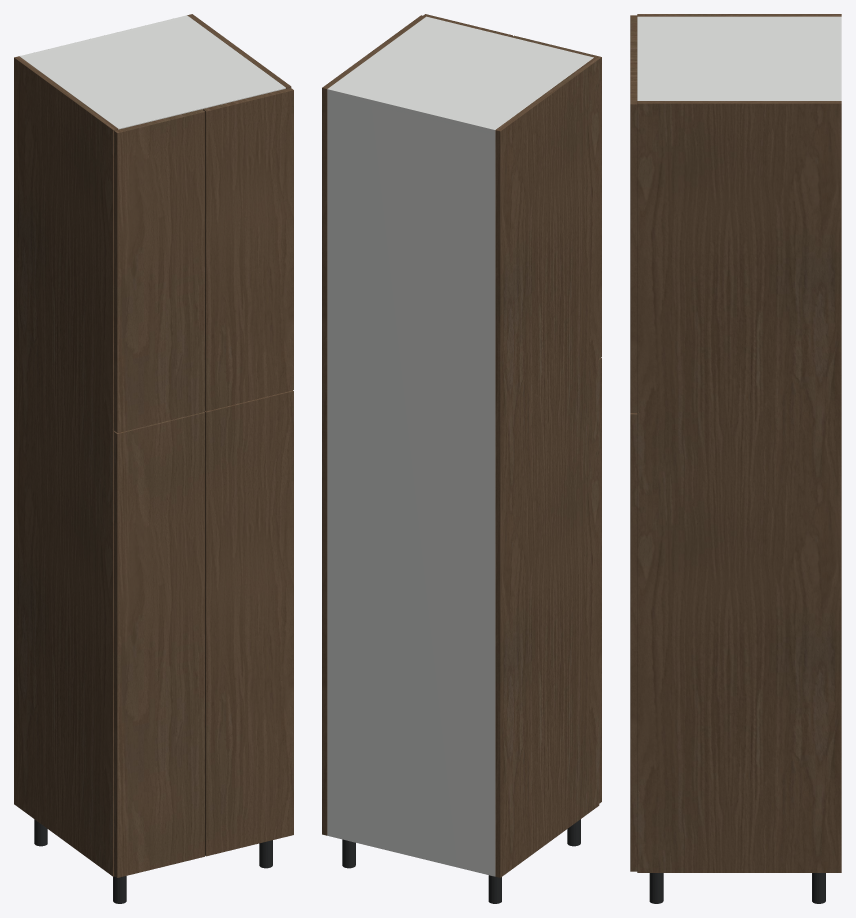
File: oppein-pb-mso-pc2496.glb
3 views of the same model, side by side, from view 1: azimuth 30°, elevation 25°; view 2: azimuth 150°, elevation 25°; view 3: azimuth 270°, elevation 25° (orthographic). The views are drawn at different scales.
Parts seen in each view (by area): view 1: Cabinet side, Door, Door.001, Door.002, Door.003, Cabinet top, Cabinet side.001; view 2: Cabinet back, Cabinet side, Cabinet top, Cabinet side.001, Door, Door.002; view 3: Cabinet side.001, Cabinet top, Door.001, Door.003, Cabinet side, Adjustable foot.003.
Part boxes in pixels (x1=…): Cabinet side: x1=14, y1=56, x2=118, y2=876; Door: x1=114, y1=412, x2=204, y2=877; Door.001: x1=204, y1=390, x2=293, y2=856; Door.002: x1=114, y1=109, x2=204, y2=432; Door.003: x1=202, y1=87, x2=293, y2=411; Cabinet top: x1=21, y1=16, x2=285, y2=129; Cabinet side.001: x1=187, y1=14, x2=291, y2=88; Cabinet back: x1=327, y1=87, x2=496, y2=876; Cabinet side: x1=495, y1=57, x2=599, y2=877; Cabinet top: x1=328, y1=16, x2=593, y2=132; Cabinet side.001: x1=322, y1=15, x2=425, y2=835; Door: x1=599, y1=357, x2=601, y2=803; Door.002: x1=512, y1=35, x2=601, y2=358; Cabinet side.001: x1=637, y1=101, x2=841, y2=872; Cabinet top: x1=637, y1=16, x2=837, y2=100; Door.001: x1=630, y1=413, x2=637, y2=871; Door.003: x1=630, y1=60, x2=637, y2=412; Cabinet side: x1=637, y1=14, x2=841, y2=16; Adjustable foot.003: x1=649, y1=873, x2=663, y2=903.
Bounding box in the file's own units: 0.6096 × 2.55 × 0.6064.
3 materials, 1 textured.
